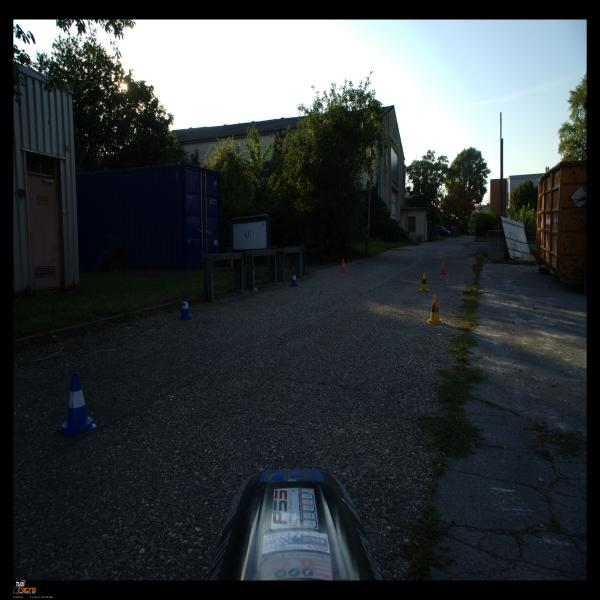blue_cone: (57, 372, 96, 436), (178, 294, 192, 319), (289, 270, 299, 286)
orange_cone: (439, 260, 446, 274), (340, 258, 346, 272)
yellow_cone: (426, 296, 444, 325), (418, 273, 430, 292)
